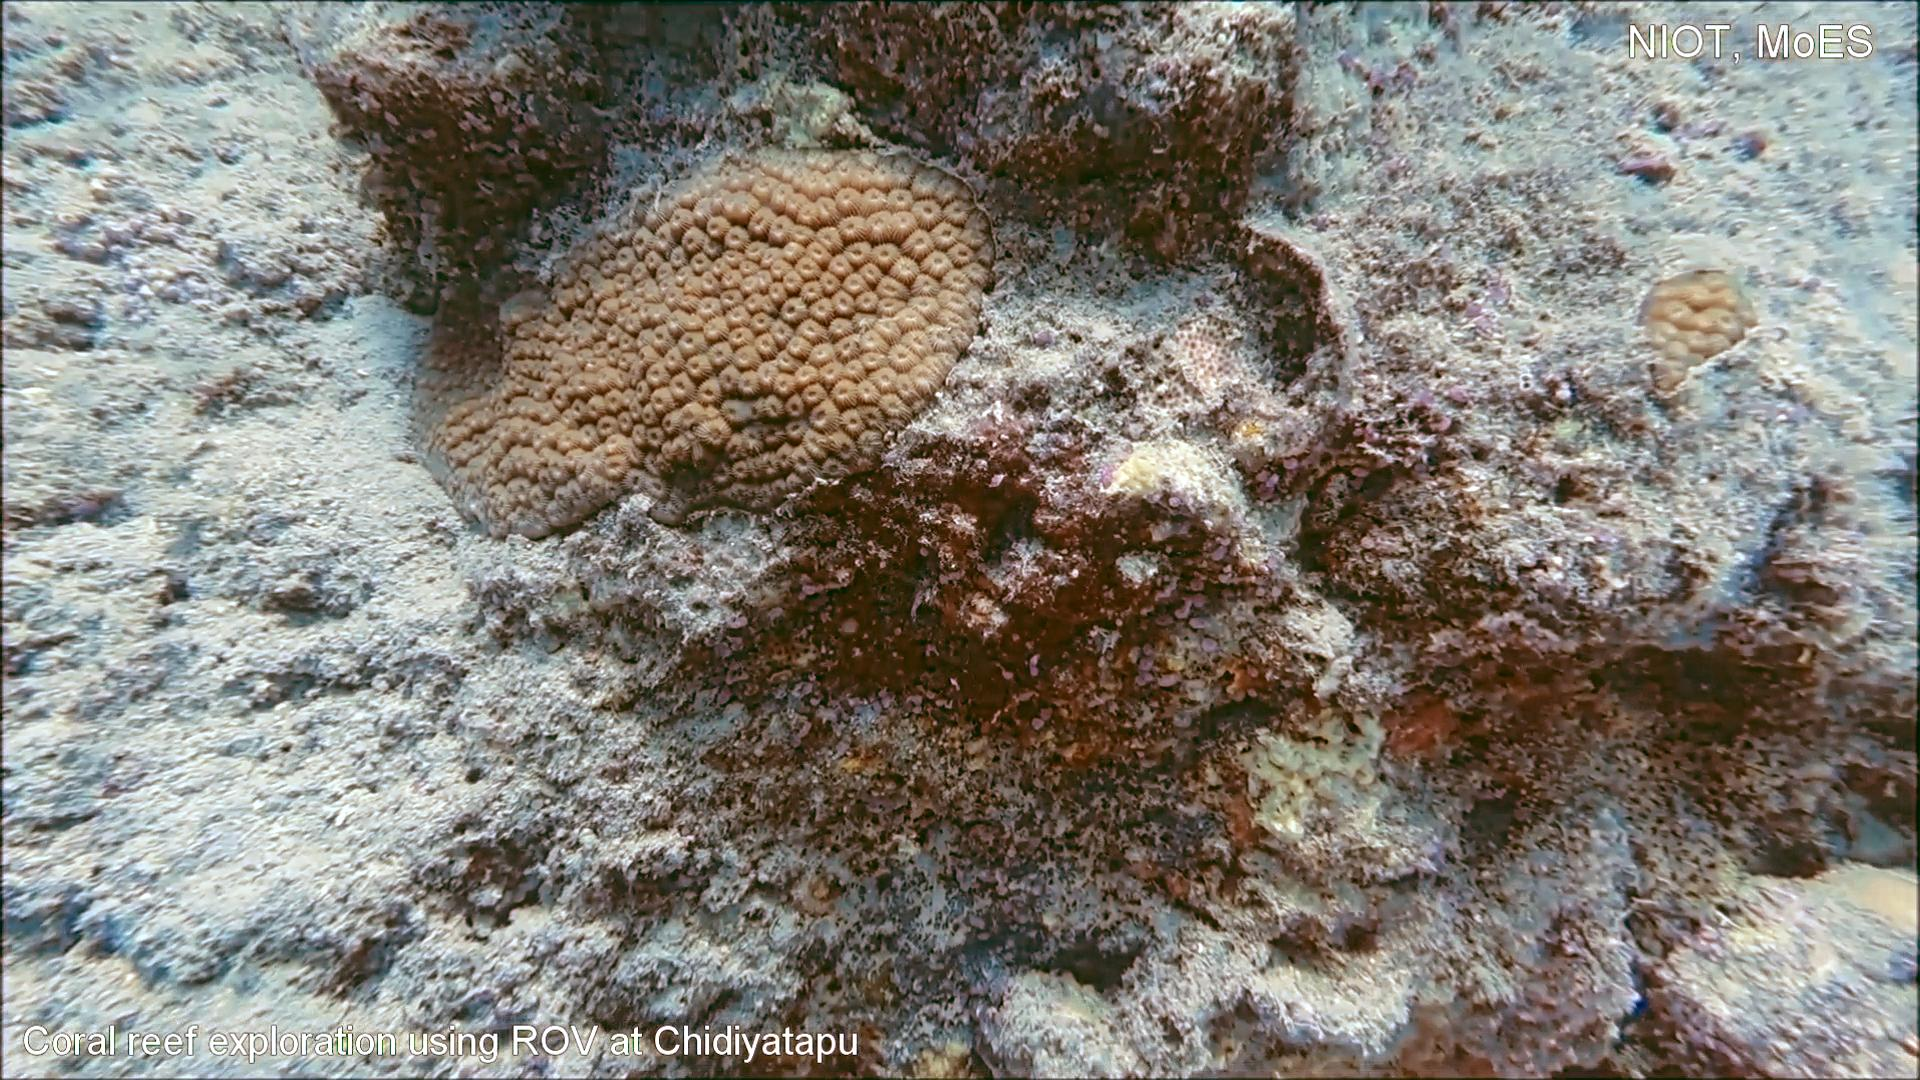Montastraea: (400, 136, 1005, 546), (1625, 258, 1767, 407)
